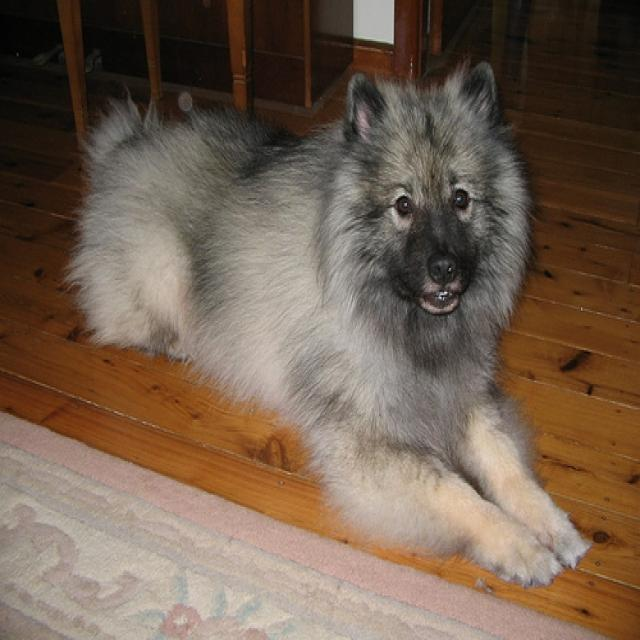dog-keeshond: (55, 51, 599, 596)
